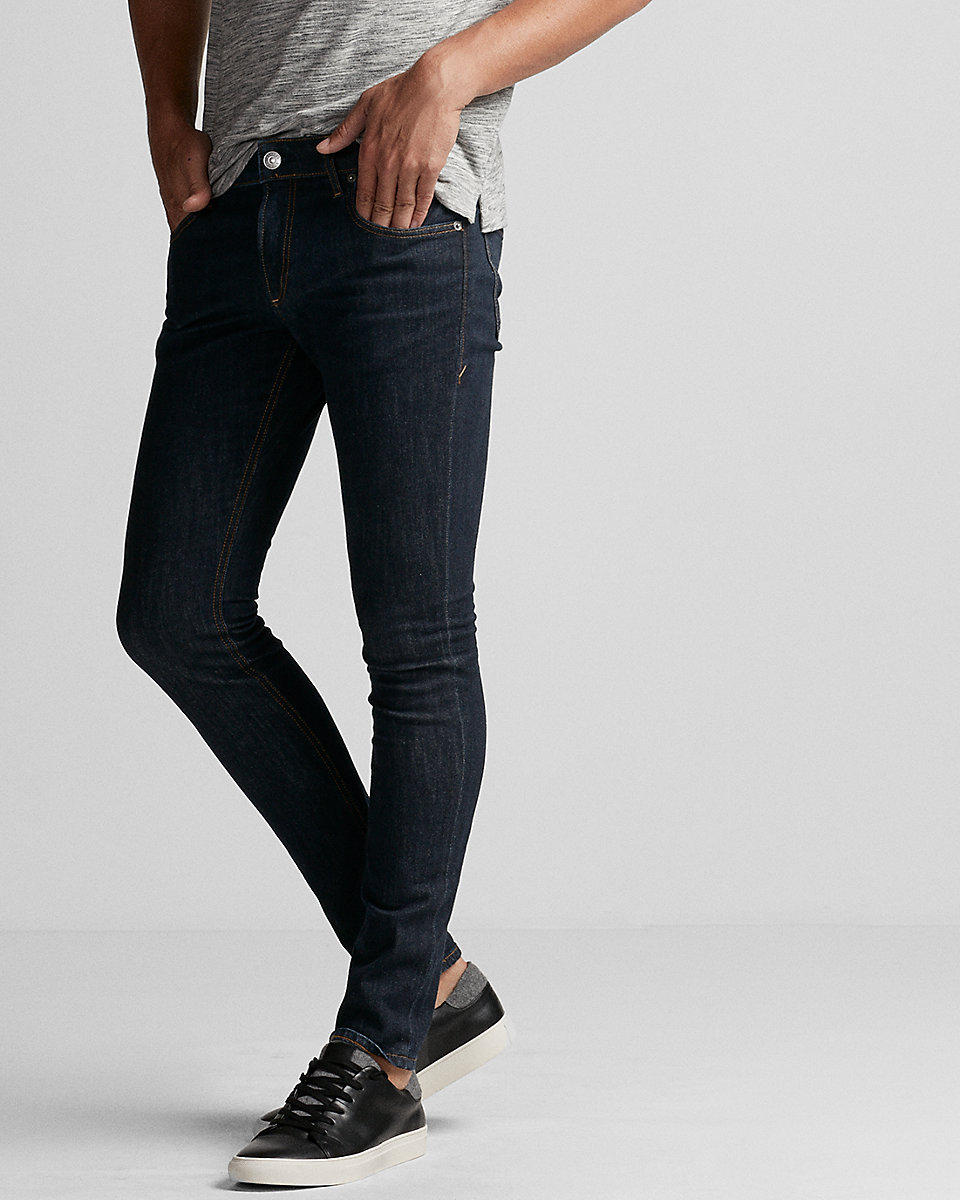Jeans: (108, 127, 511, 1067)
